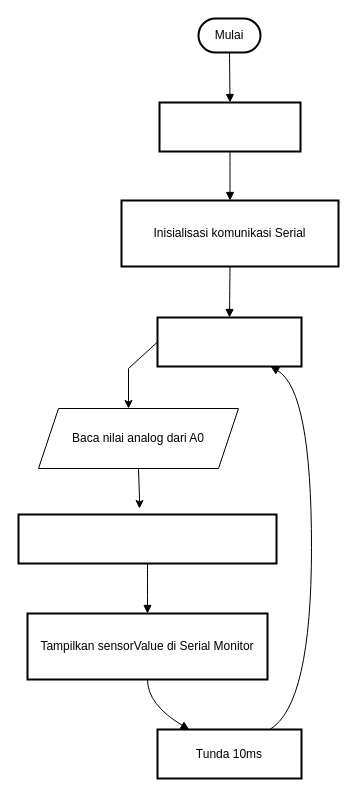
This 356x796 diagram has some shape labels left out. The shapes that lost their labels are listed below. From the top down, each one's centre as x and y in pixels, then its label:
the point at 229,126: Pengaturan
the point at 229,341: Ulangi Loop
the point at 147,538: Simpan nilai ke sensorValue
